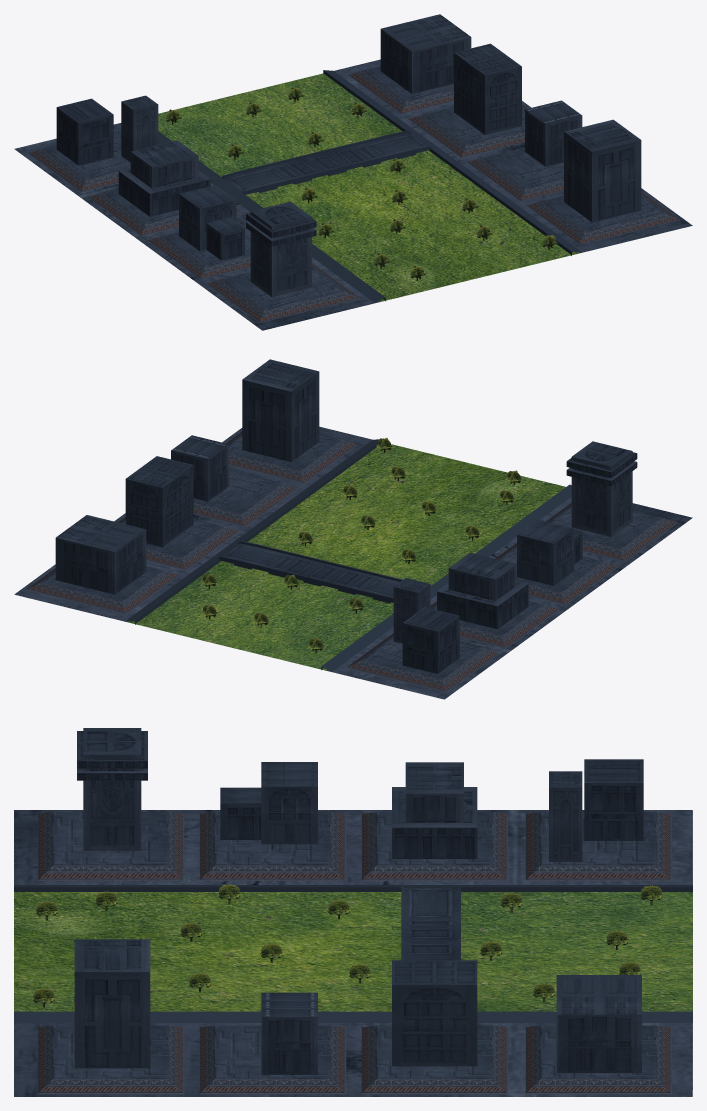
File: Parkblok5.FBX
3 views of the same model, one above another, from view 1: azimuth 30°, elevation 25°; view 2: azimuth 150°, elevation 25°; view 3: azimuth 270°, elevation 25° (orthographic). The views are drawn at different scales.
Visible parts, largest first — view 1: polySurface04; view 2: polySurface04; view 3: polySurface04.
Part boxes in pixels (box(x1,y1,x2,y2)): polySurface04: box(14, 14, 692, 330); polySurface04: box(14, 359, 692, 699); polySurface04: box(14, 728, 692, 1096).
Size of the model in its own units: 43.8 by 7.56 by 43.79.
Materials: 3 (3 with a texture image).
